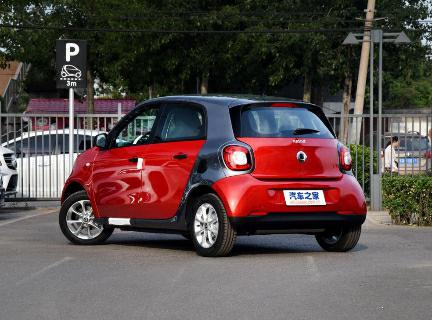smart-forfour: (53, 91, 383, 257)
